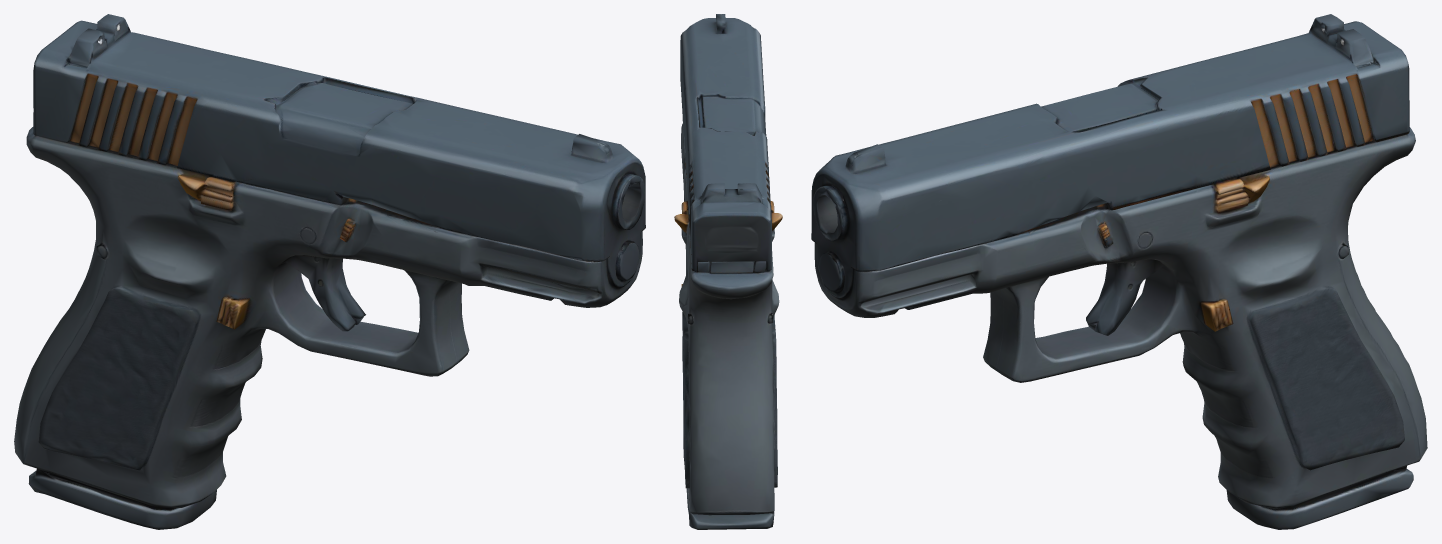
3 renders of one model, left to right at view 1: azimuth 30°, elevation 25°; view 2: azimuth 150°, elevation 25°; view 3: azimuth 270°, elevation 25°, orthographic. The views are drawn at different scales.
Parts seen in each view (by area): view 1: tripo_node_c9c1a63b-32a6-45e5-9784-5a25bd85dcaf; view 2: tripo_node_c9c1a63b-32a6-45e5-9784-5a25bd85dcaf; view 3: tripo_node_c9c1a63b-32a6-45e5-9784-5a25bd85dcaf.
Part boxes in pixels (x1,y1,x2,y2): tripo_node_c9c1a63b-32a6-45e5-9784-5a25bd85dcaf: [14, 14, 645, 529]; tripo_node_c9c1a63b-32a6-45e5-9784-5a25bd85dcaf: [674, 14, 782, 529]; tripo_node_c9c1a63b-32a6-45e5-9784-5a25bd85dcaf: [811, 14, 1427, 529].
Bounding box in the file's own units: 0.1502 × 0.18 × 0.2161.
Materials: 1 (1 with a texture image).
